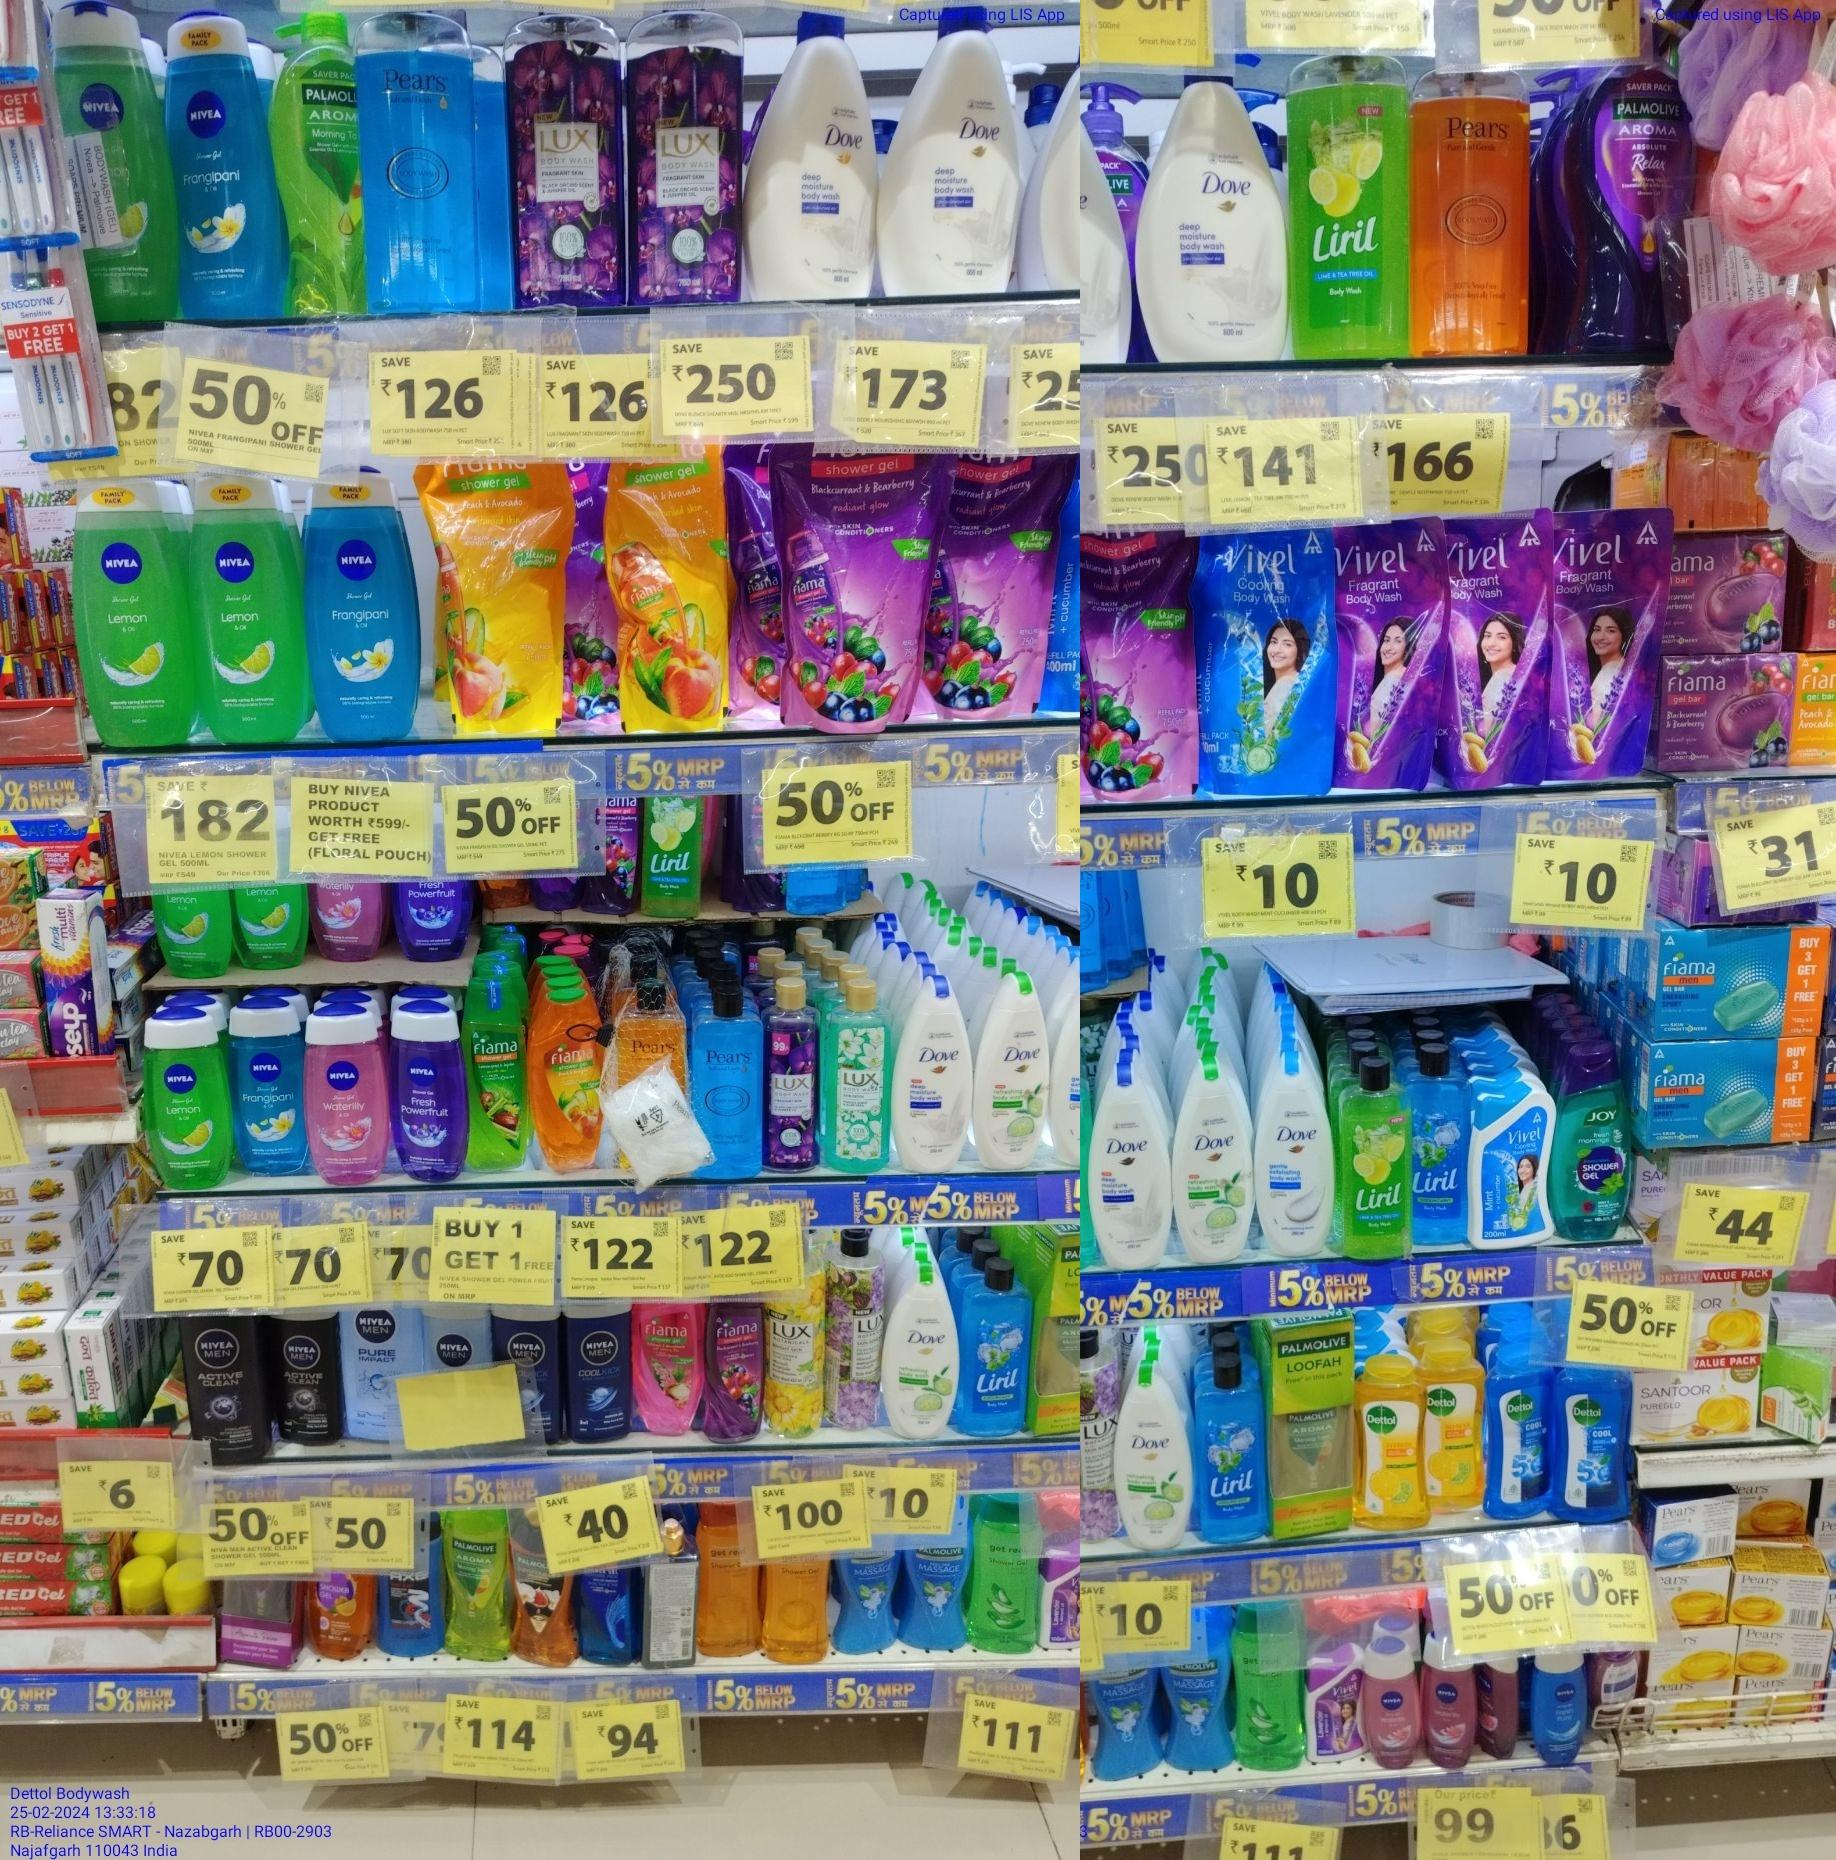Dettol_Bodywash_Cool: (1559, 1364, 1633, 1524), (1488, 1354, 1552, 1522)
Dettol_Bodywash_Refresh: (1357, 1367, 1427, 1530), (1429, 1345, 1481, 1517)
Dove_Deep_Moisture_Body_Wash_250ML: (1089, 1066, 1165, 1268), (896, 982, 973, 1174)
Dove_Gentle_Exfoliating_Body_Wash_250ML: (1258, 1066, 1332, 1258)
Dove_Refreshing_Body_Wash_250ML: (1111, 1366, 1192, 1549), (1177, 1066, 1249, 1260), (979, 974, 1049, 1170), (883, 1273, 958, 1438)
Fiama_Shower_Gel_Lemongrass_and_Jojoba_250ML: (469, 980, 526, 1170)
Fiama_Shower_Gel_Patchouli_and_Macadamia_250ML: (636, 1302, 703, 1435)
Fiama_Shower_Gel_Peach_and_Avocado_250ML: (528, 994, 602, 1167)
Joy_Shower_Gel_Mint_and_Eucalyptus_250ML: (1552, 1046, 1629, 1241)
Liril_Cooling_Mint_Body_Wash_250ML: (1197, 1361, 1268, 1540), (962, 1263, 1026, 1436), (1414, 1046, 1468, 1244)
Liril_Lime_and_Tea_Tree_Oil_Body_Wash_250ML: (1337, 1063, 1409, 1256)
Lux_Black_Orchid_Scent_and_Juniper_Oil_Body_Wash_245ML: (768, 980, 819, 1174)
Lux_Body_Wash_Skin_Detox_Freesia_Scent_and_Alove_Vera_245ML: (829, 984, 889, 1174)
Nivea_Shower_Gel_Frangipani_and_Oil_250ML: (170, 10, 281, 320), (316, 471, 419, 743), (232, 1002, 301, 1179)
Nivea_Shower_Gel_Fresh_Powerfruit_250ML: (392, 1007, 466, 1181)
Nivea_Shower_Gel_Lemon_and_Oil_250ML: (55, 3, 160, 323), (79, 478, 198, 748), (210, 481, 306, 743), (146, 1016, 225, 1192)
Nivea_Shower_Gel_Waterlily_and_Oil_250ML: (309, 1012, 387, 1184)
Pears_Pure_Glycerin_and_Mint_Extracts_Body_Wash_250ML: (689, 987, 765, 1179)
